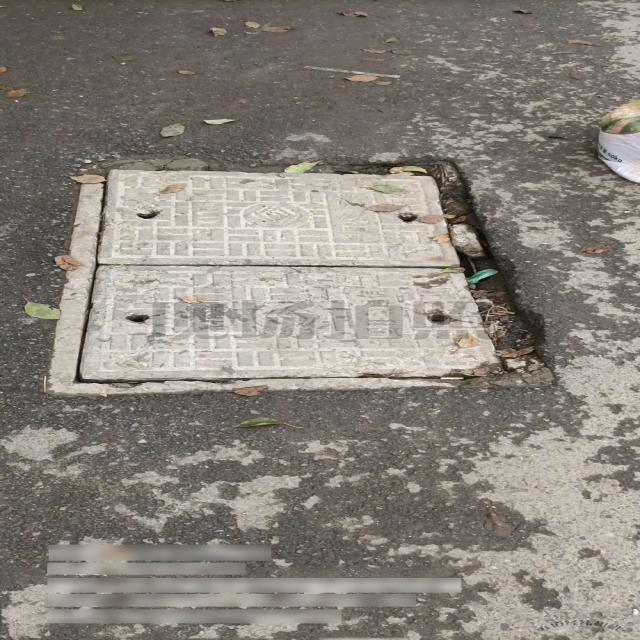Good: (52, 159, 560, 394)
